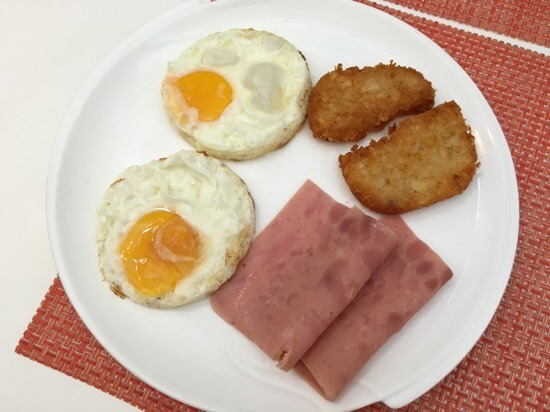fried egg: (104, 162, 247, 302), (167, 34, 300, 151)
